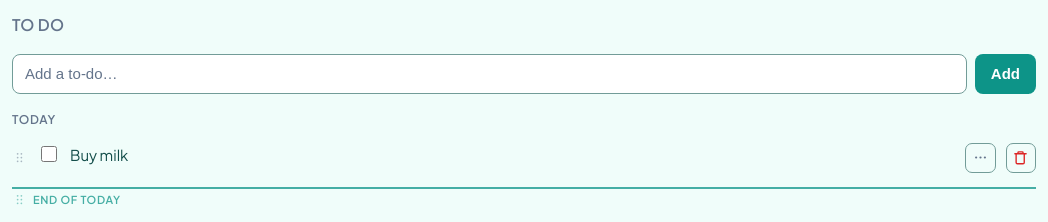
TodoSection — edit › editing a standalone todo saves via PUT /todos/:id and shows it optimistically
Click the button with test id "todo-description-t-1". click: (99, 154)
box: [70,143,955,167]
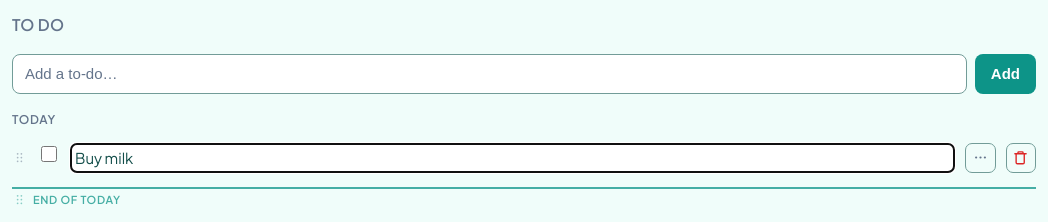
Replace the text in the field with test id "edit-todo-input-t-1" with "Buy oat milk". click: (513, 158)
box: [70,143,955,173]
Then press Enter
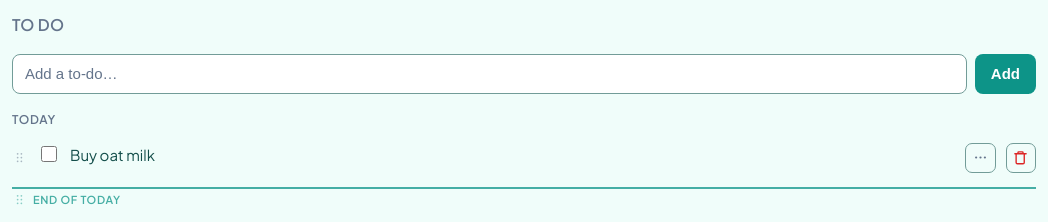
Expected: the button with test id "todo-description-t-1" reads "Buy oat milk", [70,143,955,167]
